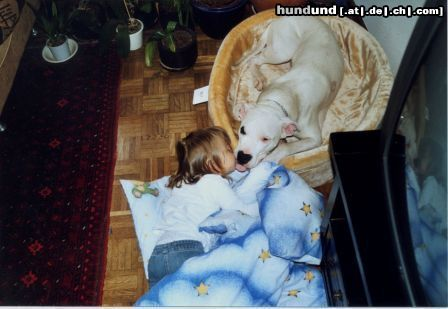dogo_argentino: (232, 16, 344, 171)
human_face: (210, 139, 237, 176)
person: (147, 125, 249, 292)
